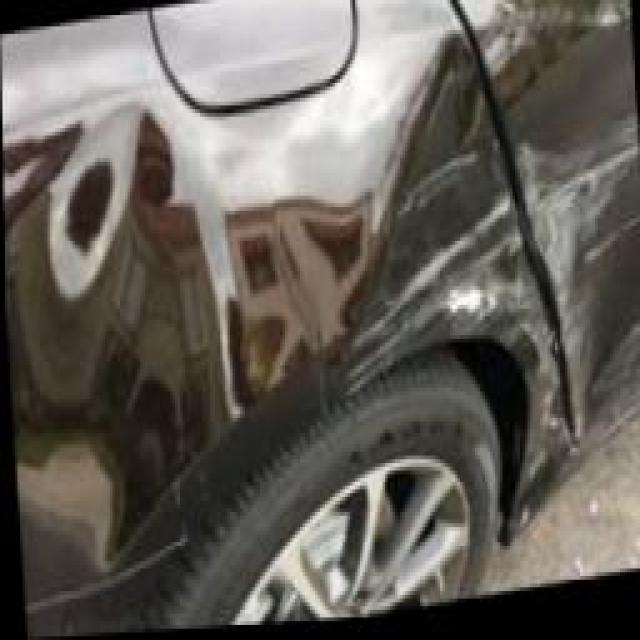Door: (507, 82, 640, 448)
Fender: (301, 135, 573, 562)
